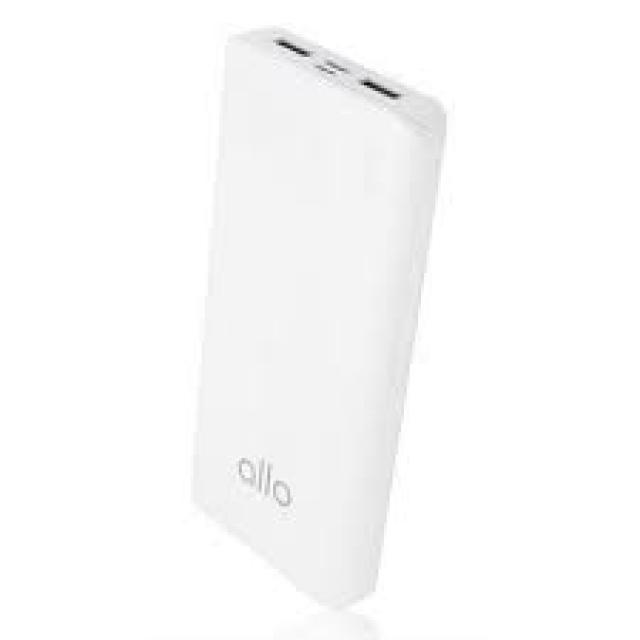power_bank: (190, 27, 451, 608)
